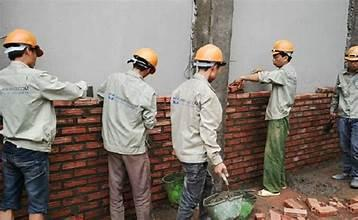Helmet: (1, 26, 42, 65), (127, 47, 158, 74), (193, 43, 225, 66), (271, 39, 295, 54), (344, 45, 357, 61)
Person: (0, 28, 87, 219), (94, 48, 157, 220), (169, 43, 229, 219), (238, 39, 297, 196), (329, 45, 357, 188)
Safety Boot: (332, 169, 349, 181), (346, 177, 358, 192)
bare-arms: (211, 161, 231, 183)
no-boot: (255, 185, 282, 198)
no-vest: (0, 74, 56, 148), (169, 87, 216, 158), (105, 81, 148, 151), (270, 70, 297, 118), (338, 74, 355, 119)
